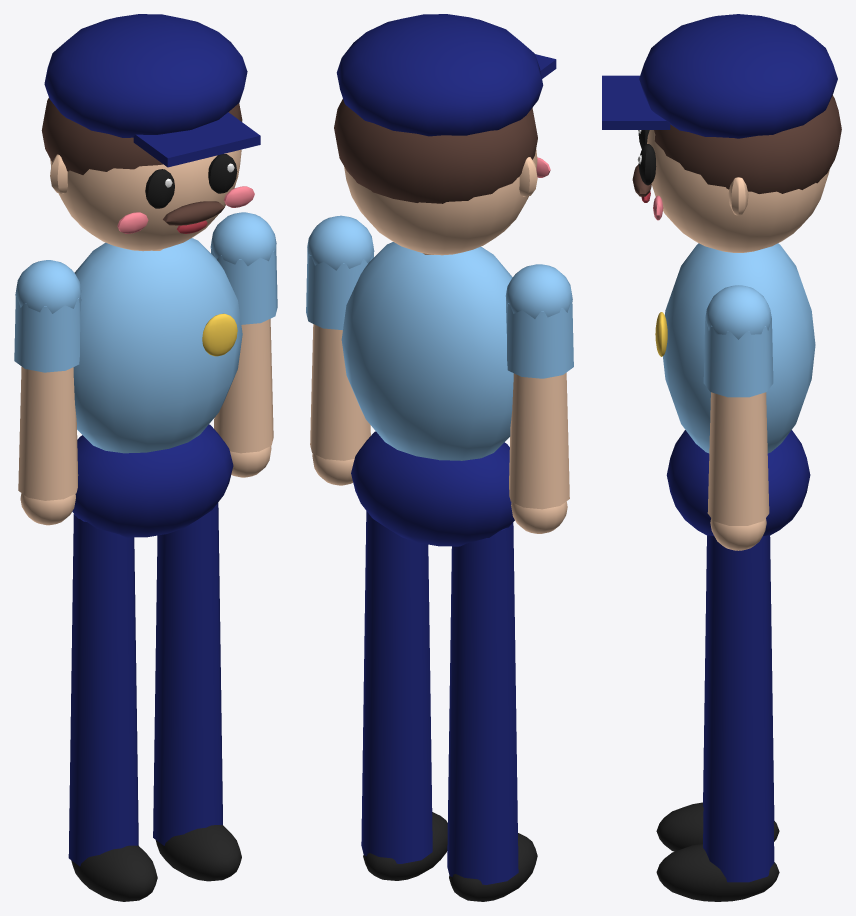
Rendered from homes_mail.glb.
3 renders of one model, left to right at view 1: azimuth 30°, elevation 25°; view 2: azimuth 150°, elevation 25°; view 3: azimuth 270°, elevation 25°, orthographic.
Parts seen in each view (by area): view 1: Body.006, Leg_R.006, Leg_L.006, Arm_R.006, Arm_L.006; view 2: Body.006, Leg_R.006, Leg_L.006, Arm_R.006, Arm_L.006; view 3: Body.006, Leg_L.006, Arm_L.006, Leg_R.006.
Boxes of the visible parts, x1=… form: Body.006: x1=41, y1=14, x2=260, y2=537; Leg_R.006: x1=68, y1=514, x2=157, y2=901; Leg_L.006: x1=153, y1=503, x2=241, y2=881; Arm_R.006: x1=14, y1=260, x2=81, y2=525; Arm_L.006: x1=210, y1=212, x2=277, y2=477; Body.006: x1=334, y1=14, x2=556, y2=546; Leg_R.006: x1=447, y1=522, x2=537, y2=901; Leg_L.006: x1=361, y1=511, x2=447, y2=880; Arm_R.006: x1=505, y1=264, x2=573, y2=533; Arm_L.006: x1=306, y1=215, x2=374, y2=485; Body.006: x1=602, y1=14, x2=841, y2=535; Leg_L.006: x1=656, y1=535, x2=779, y2=901; Arm_L.006: x1=703, y1=285, x2=773, y2=550; Leg_R.006: x1=656, y1=536, x2=779, y2=851.
Bounding box in the file's own units: 0.57 × 1.82 × 0.4674.
